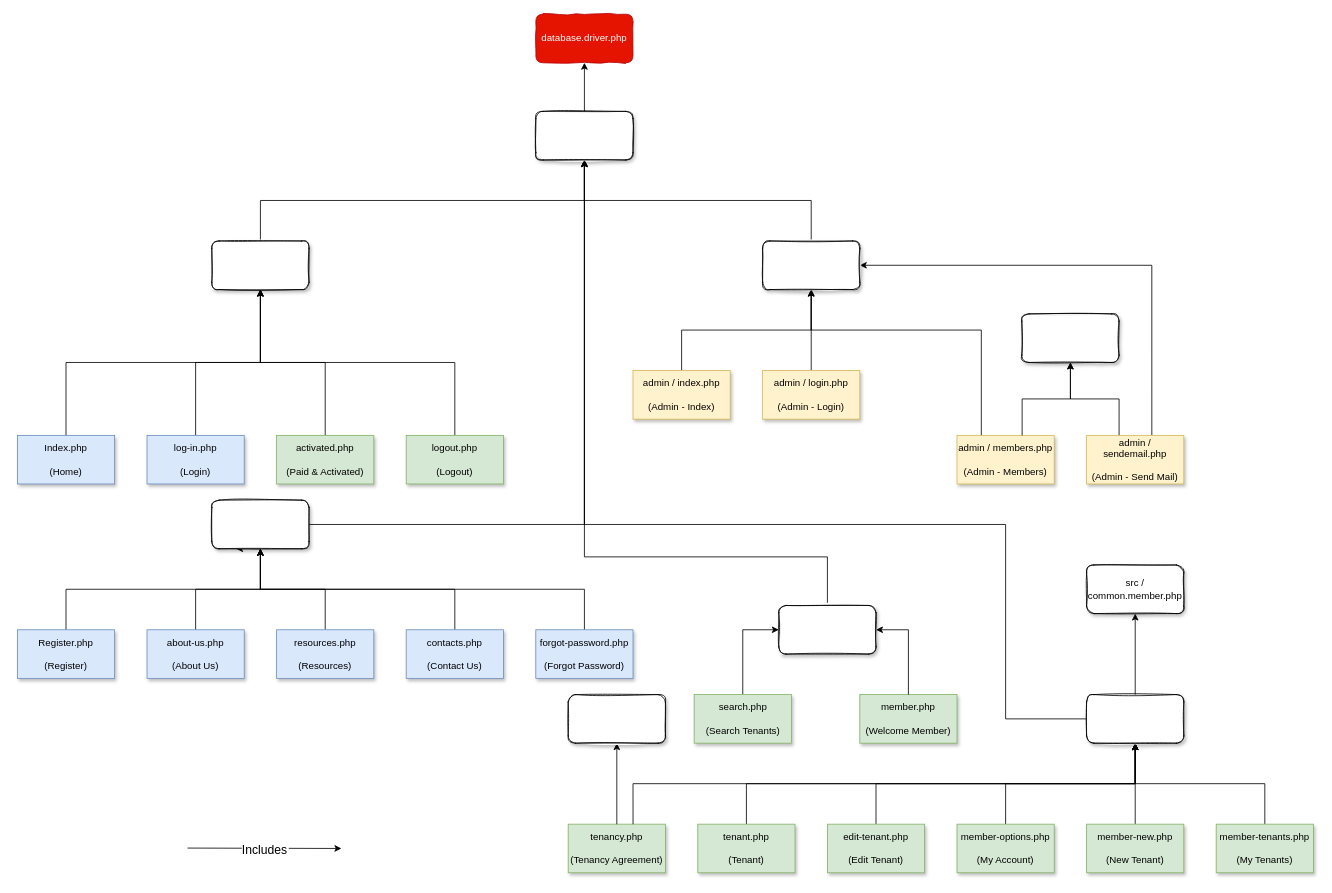
The diagram is 1332 pixels wide and 893 high, and some of its shapes have lost their labels. The shapes that lost their labels are listed below. From the top down, each one's centre as x and y in pixels, then its label:
point (585, 136): src / common.page.php
point (261, 266): src / template1.page.php
point (812, 266): src / admin.page.php
point (1071, 339): src / admin_member.php (Admin - Members)
point (261, 525): src / template2.page.php
point (828, 630): src / template3.page.php
point (617, 720): src / fpdf153 / fpdf.php
point (1136, 720): src / template4.page.php
